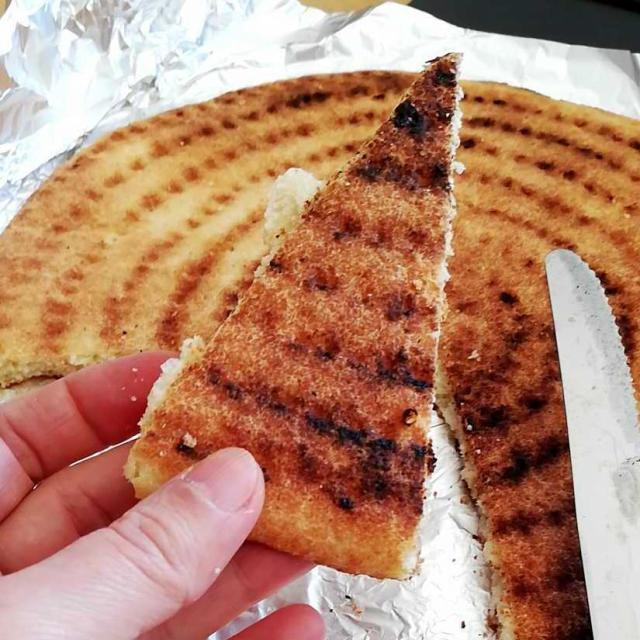bread-pita: (4, 64, 630, 635), (20, 62, 634, 640), (12, 60, 631, 625), (118, 43, 465, 579)
